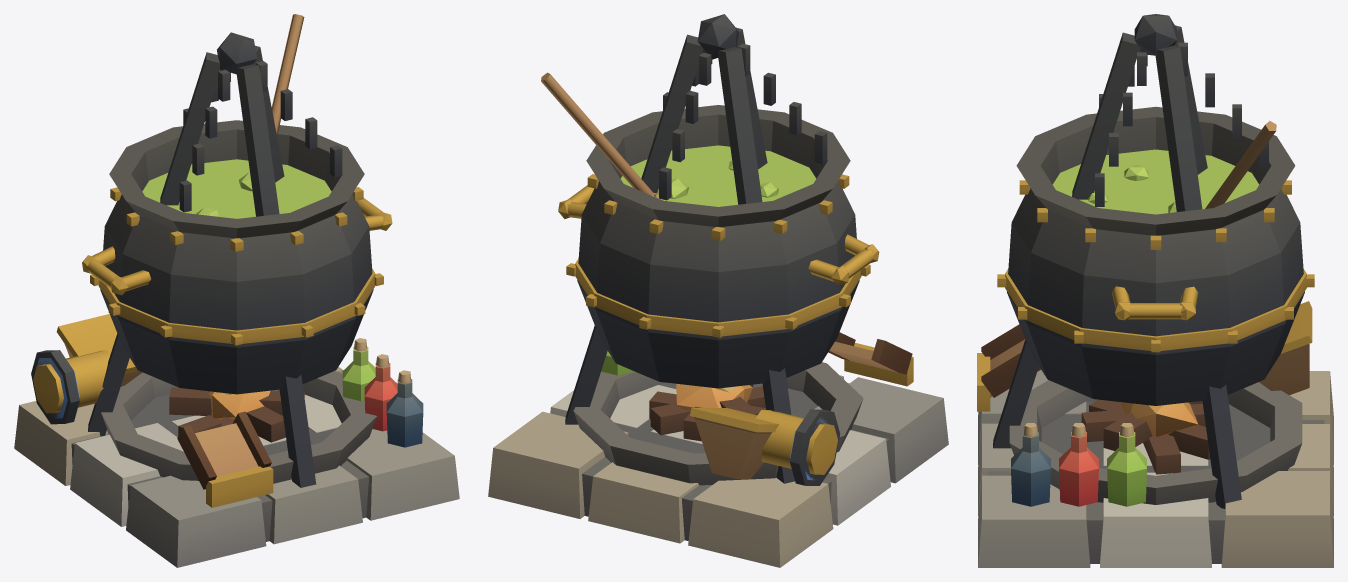
File: mach_kettle.glb
The picture shows the model from 3 angles, left to right: view 1: azimuth 30°, elevation 25°; view 2: azimuth 150°, elevation 25°; view 3: azimuth 270°, elevation 25°; orthographic projection. The views are drawn at different scales.
Visible parts, largest first — view 1: mach_kettle; view 2: mach_kettle; view 3: mach_kettle.
Part boxes in pixels (left/top/right/bottom): mach_kettle: left=14, top=14, right=459, bottom=567; mach_kettle: left=488, top=14, right=948, bottom=567; mach_kettle: left=977, top=14, right=1333, bottom=567.
Bounding box in the file's own units: 3.77 × 5.47 × 3.71.
1 material, 1 textured.
